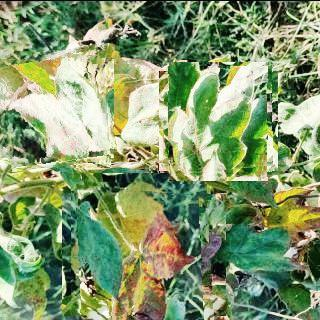blight: (71, 182, 215, 320), (0, 48, 112, 167)
curl: (164, 65, 273, 175)
